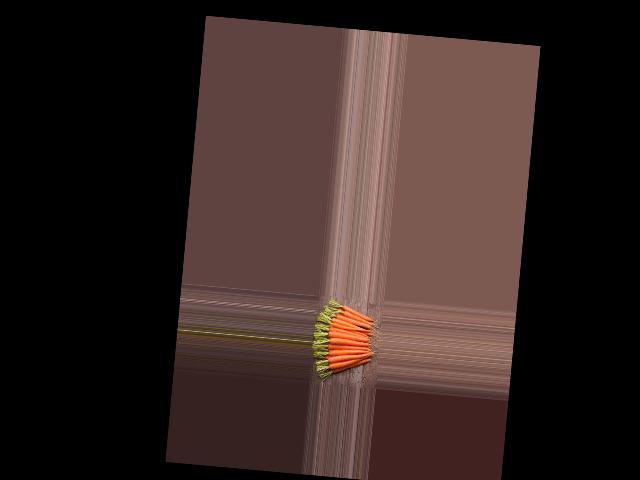carrot: (340, 305, 374, 314)
